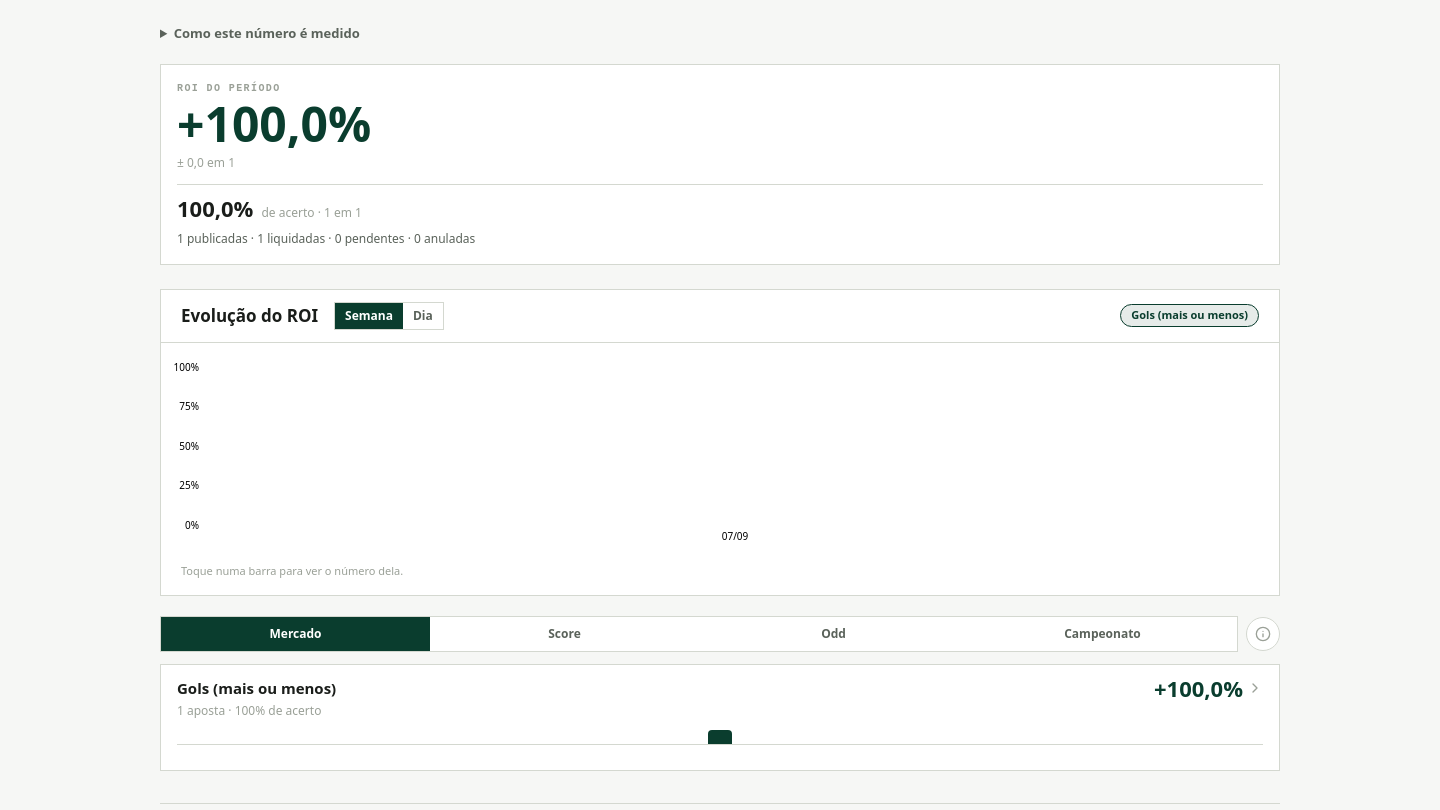
it: as quebras no celular › uma quebra por vez, trocada pelo seletor
This screenshot has width=1440, height=810.
Expected: the button "série b" is not shown
What coordinates should you click on to do the following:
click the button "Campeonato"
I would click on:
 (1102, 634)
Its box is [968,617,1237,651].
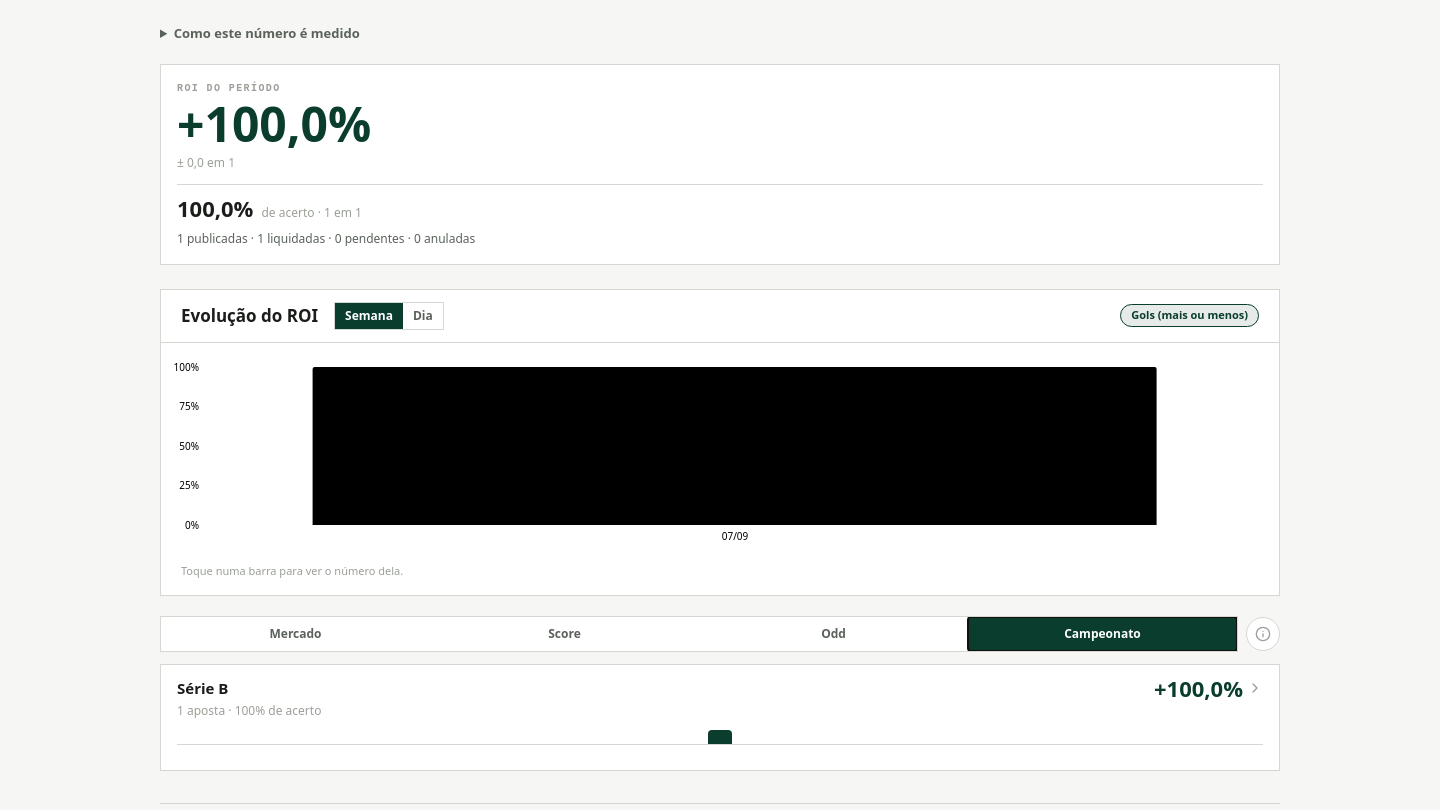
Expected: the button "Série B 1 aposta · 100% de acerto +100,0%" is shown, [160,664,1280,770]
Expected: the button "Gols (mais ou menos) 1 aposta · 100% de acerto" is gone
